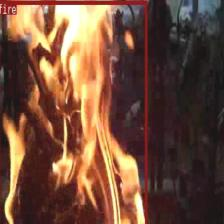fire: (0, 0, 146, 224)
